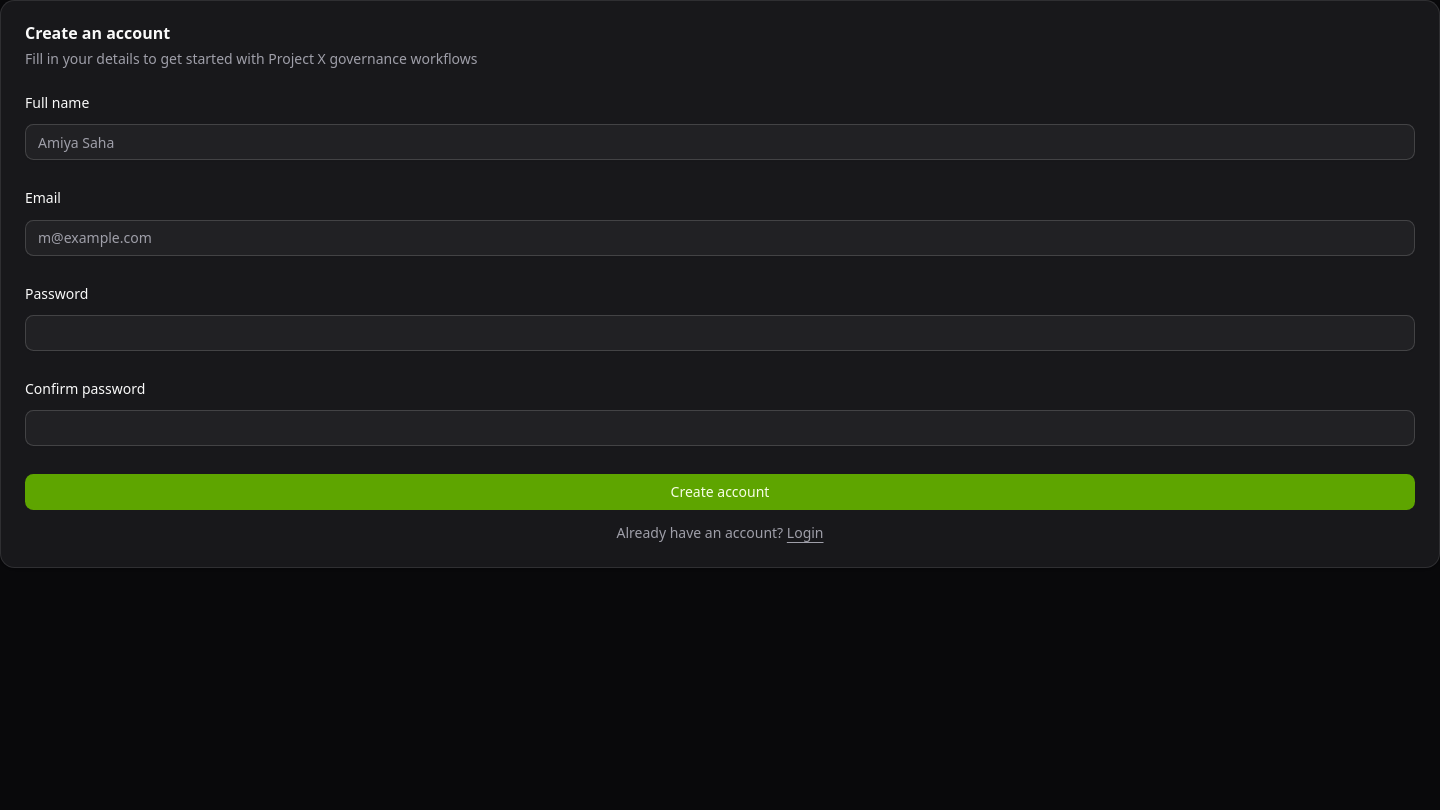
Test: RegisterForm › shows API errors when registration fails
The width and height of the screenshot is (1440, 810).
Type "existing@example.com" into the field labelled "Email". click: (720, 238)
box: top-left (25, 220), bottom-right (1415, 256)
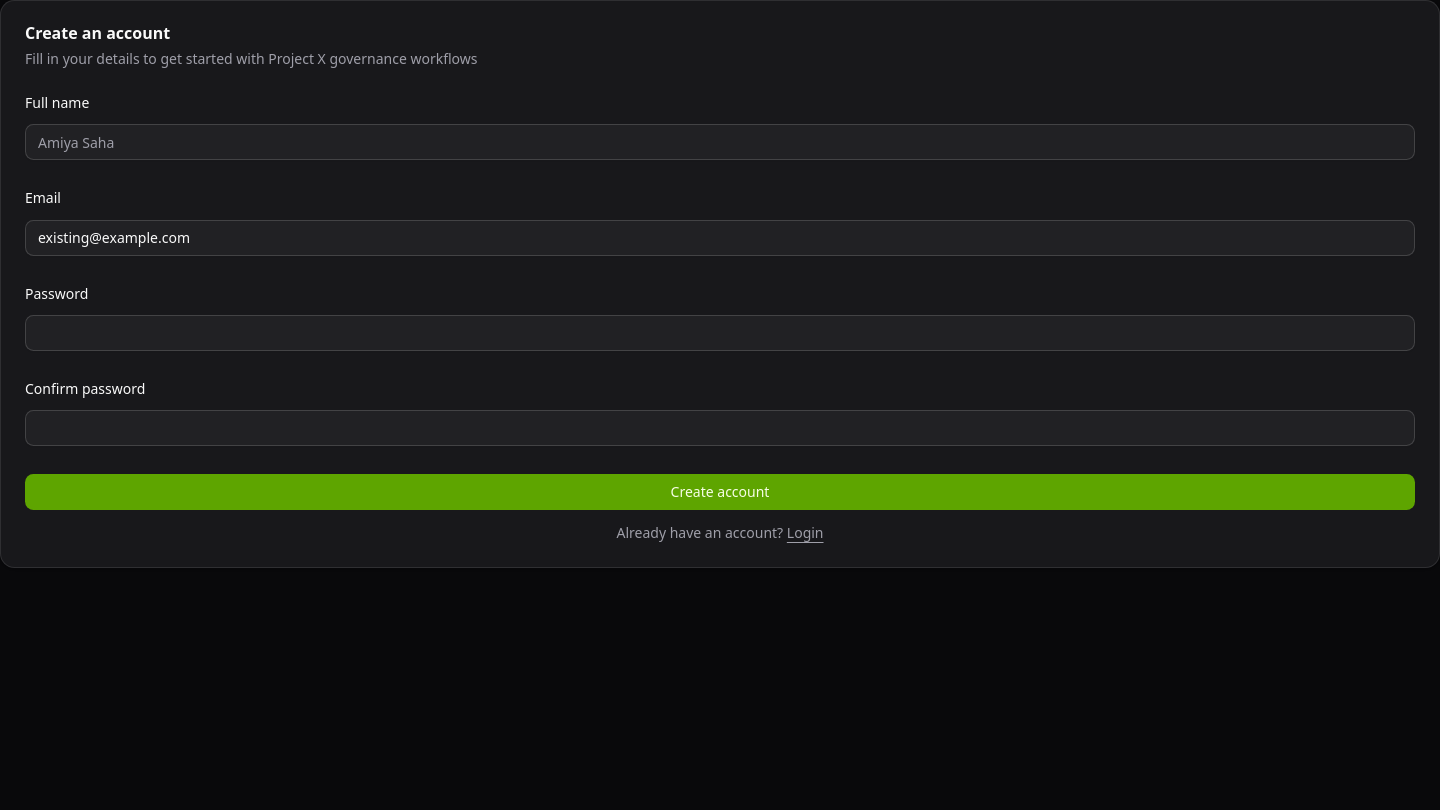
Type "password-long-enough" into the password field labelled "Password". click: (720, 333)
box: top-left (25, 315), bottom-right (1415, 351)
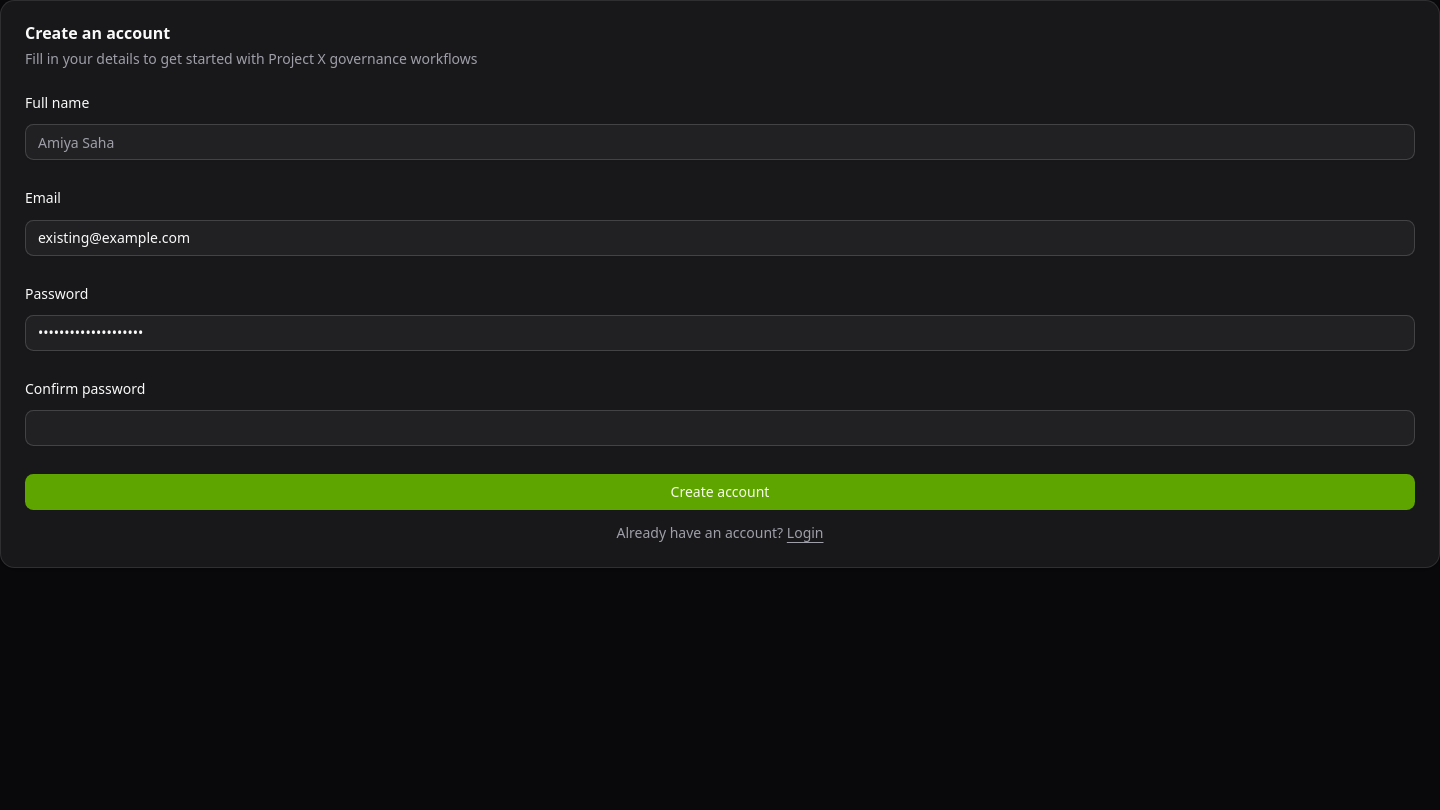
Type "password-long-enough" into the password field labelled "Confirm password". click: (720, 428)
box: top-left (25, 410), bottom-right (1415, 446)
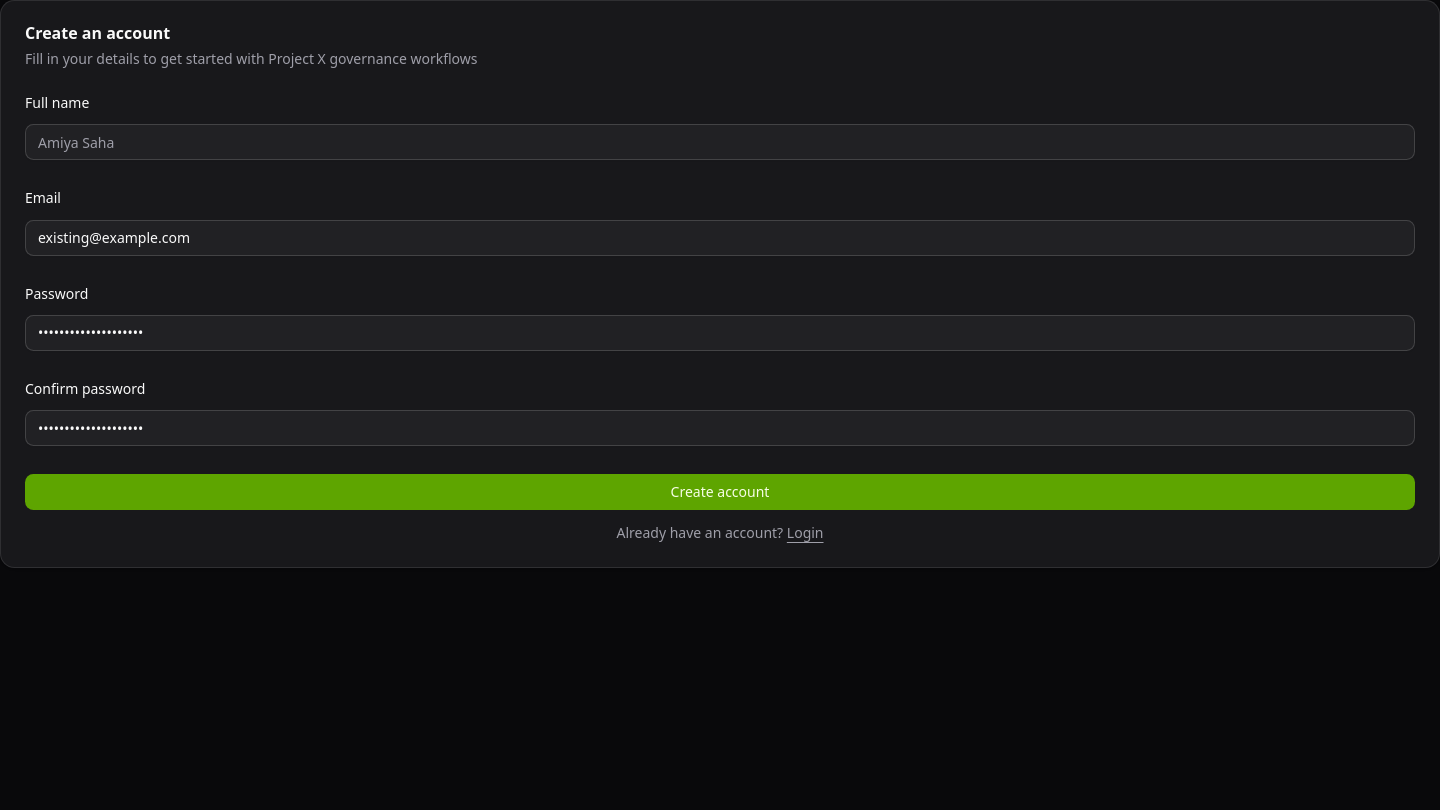
Click the button "Create account". click: (720, 492)
box: top-left (25, 474), bottom-right (1415, 510)
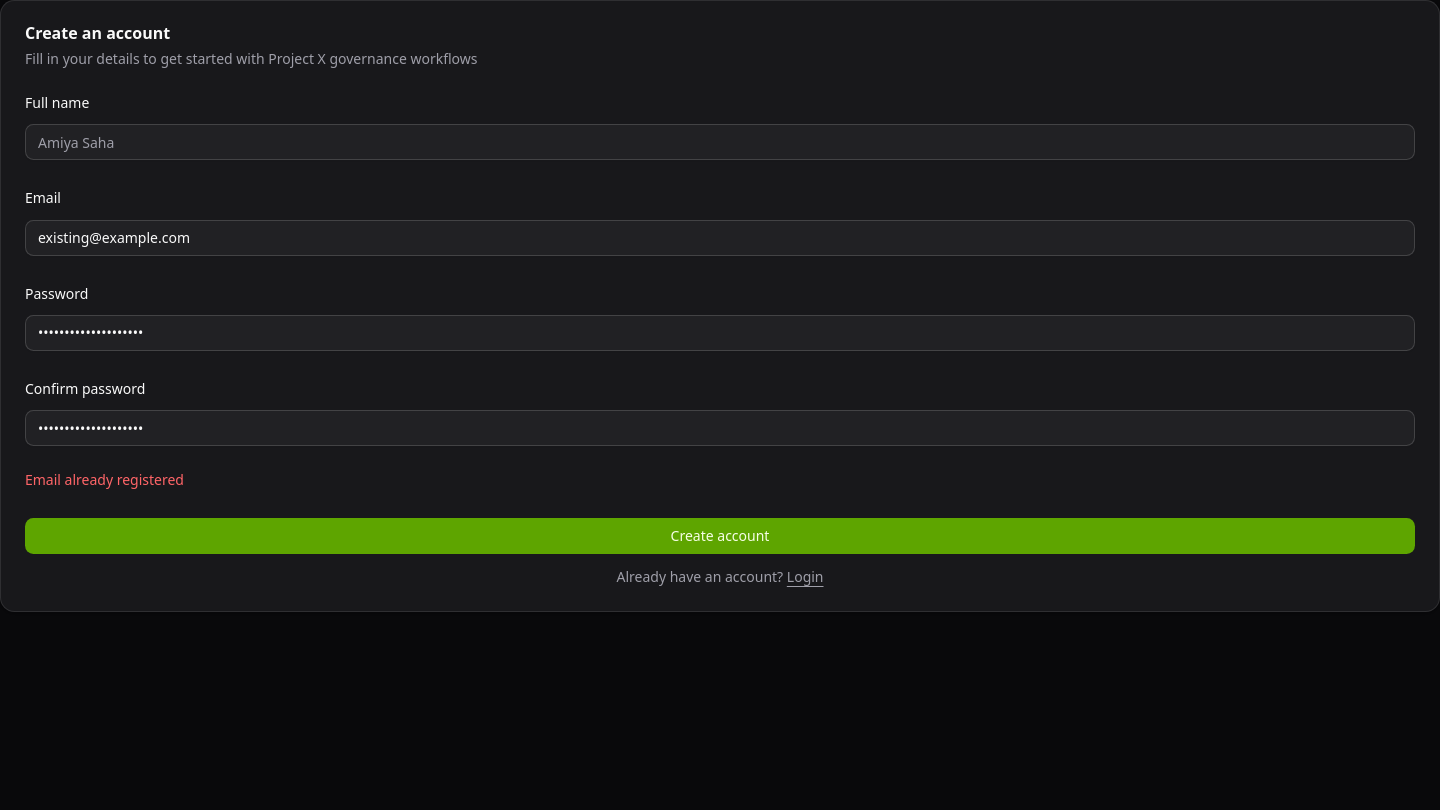
Expected: the text "Email already registered" is shown, top-left (25, 470), bottom-right (184, 489)
